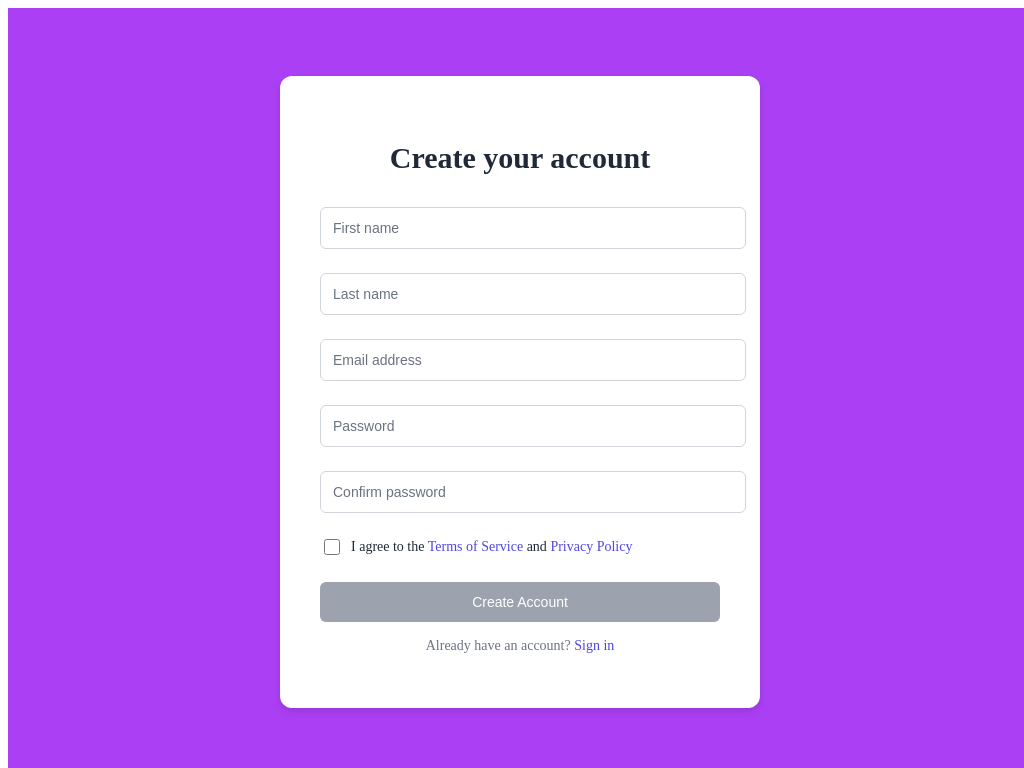
Test case: Tests Signup page › Navigates back to Login
Click the link "Sign in".
click(594, 646)  # box [574,638,614,653]
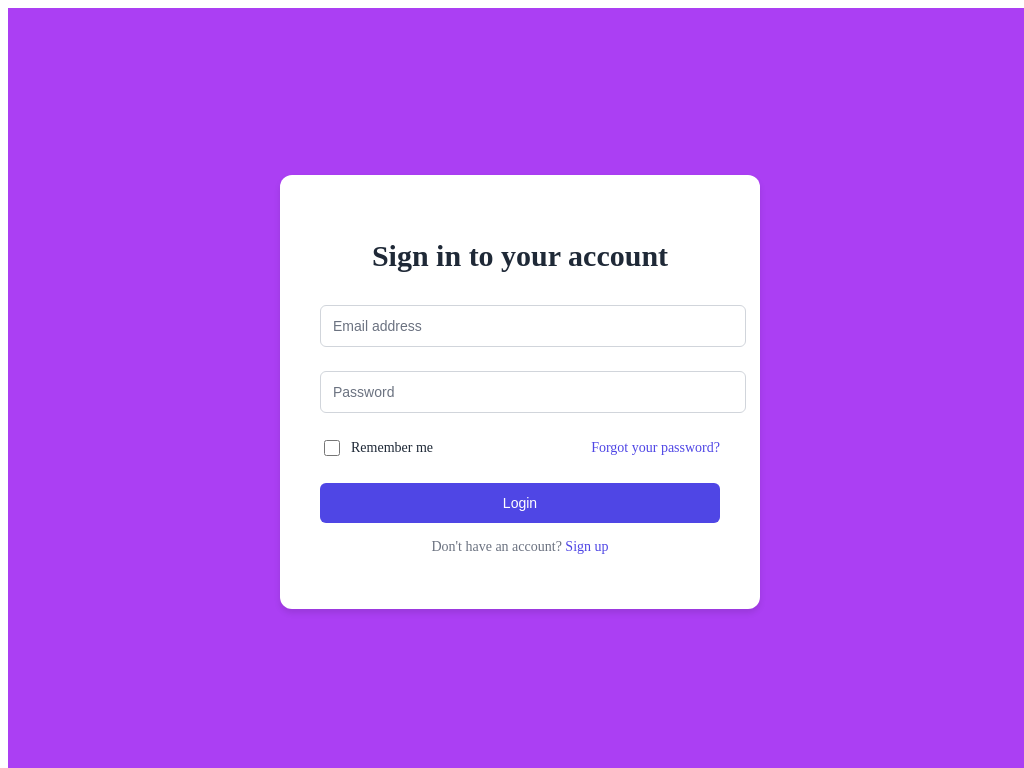
Expected: the heading "Sign in to your account" is shown, [372,239,668,272]
